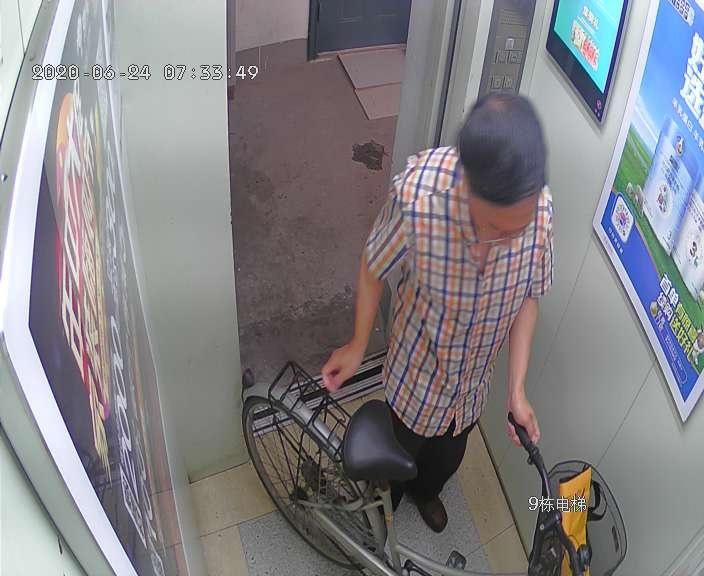person: (321, 94, 554, 492)
